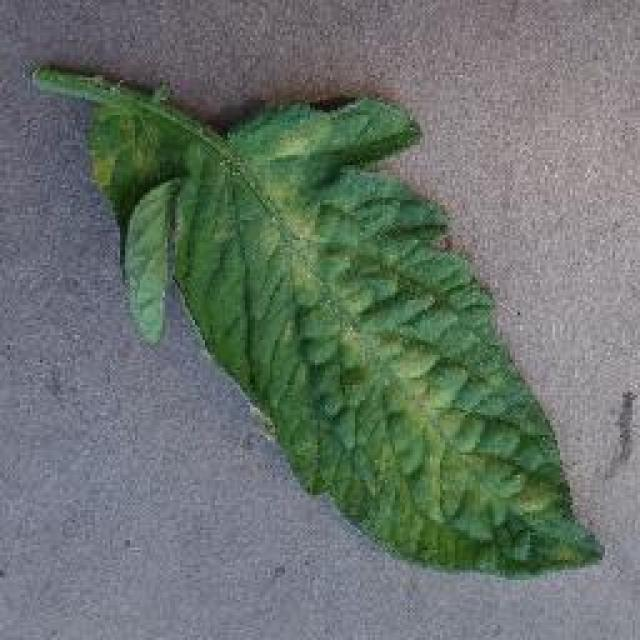leaf mold: (30, 68, 610, 578)
